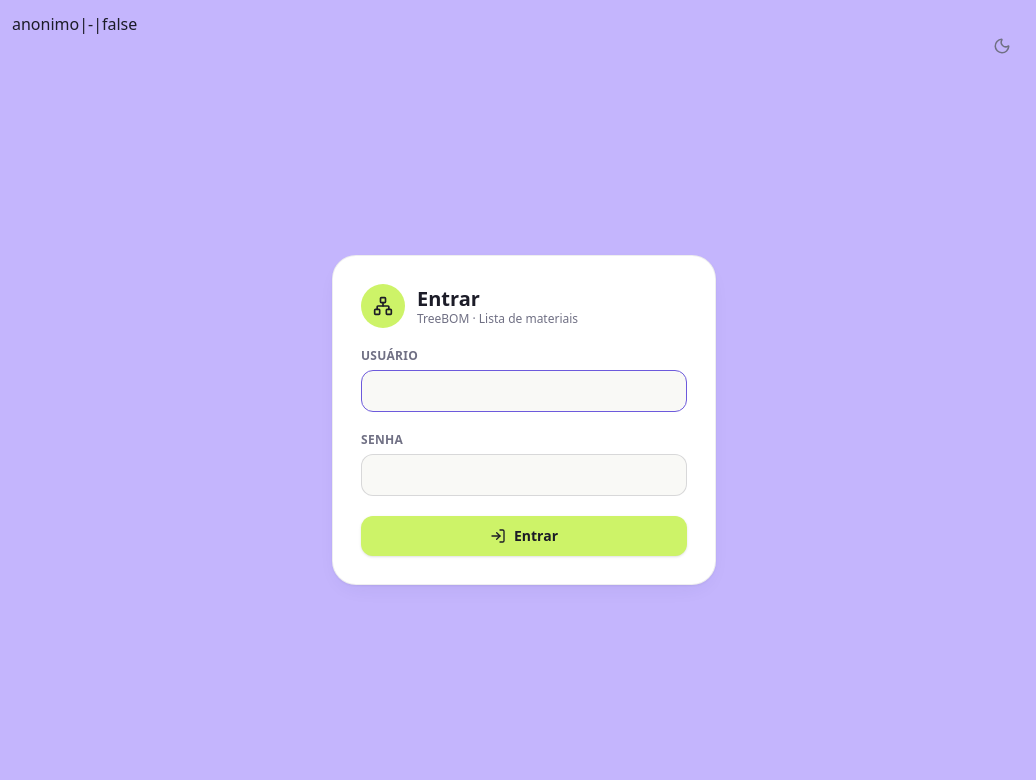
Scenario: login › senha errada mostra mensagem genérica e limpa o campo de senha
The image size is (1036, 780).
In the field labelled "Usuário": (524, 391) top-left (361, 370), bottom-right (687, 412), type "admin"
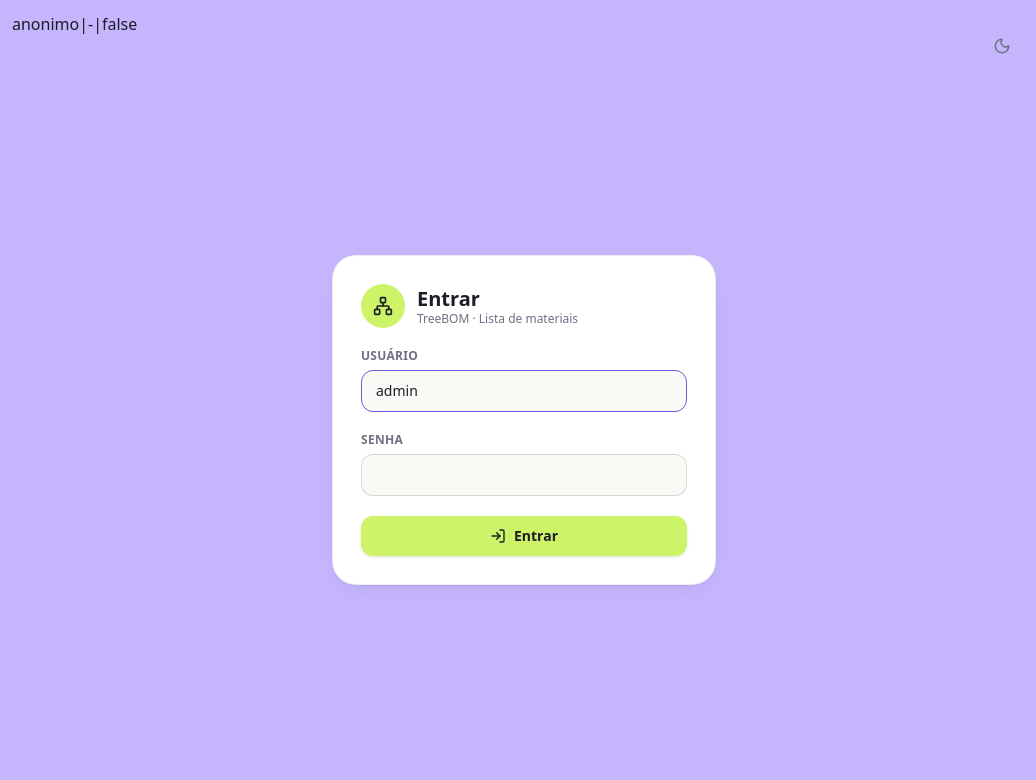
In the password field labelled "Senha": (524, 475) top-left (361, 454), bottom-right (687, 496), type "errada-errada"
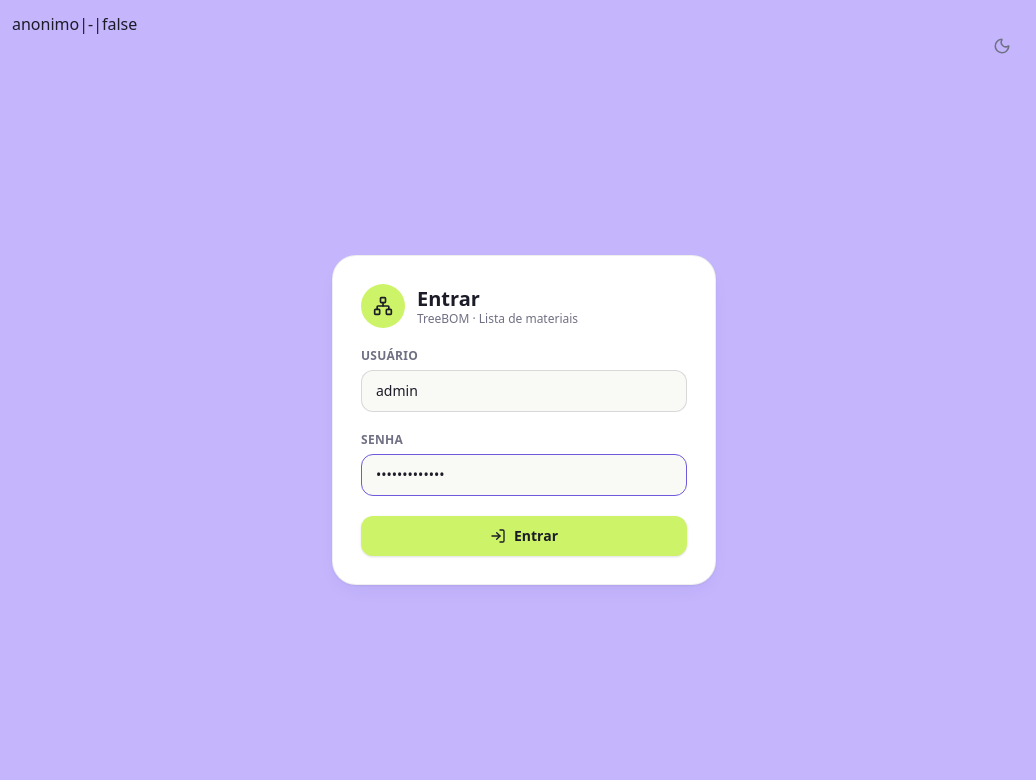
Click the button "Entrar": click(524, 536) top-left (361, 516), bottom-right (687, 556)
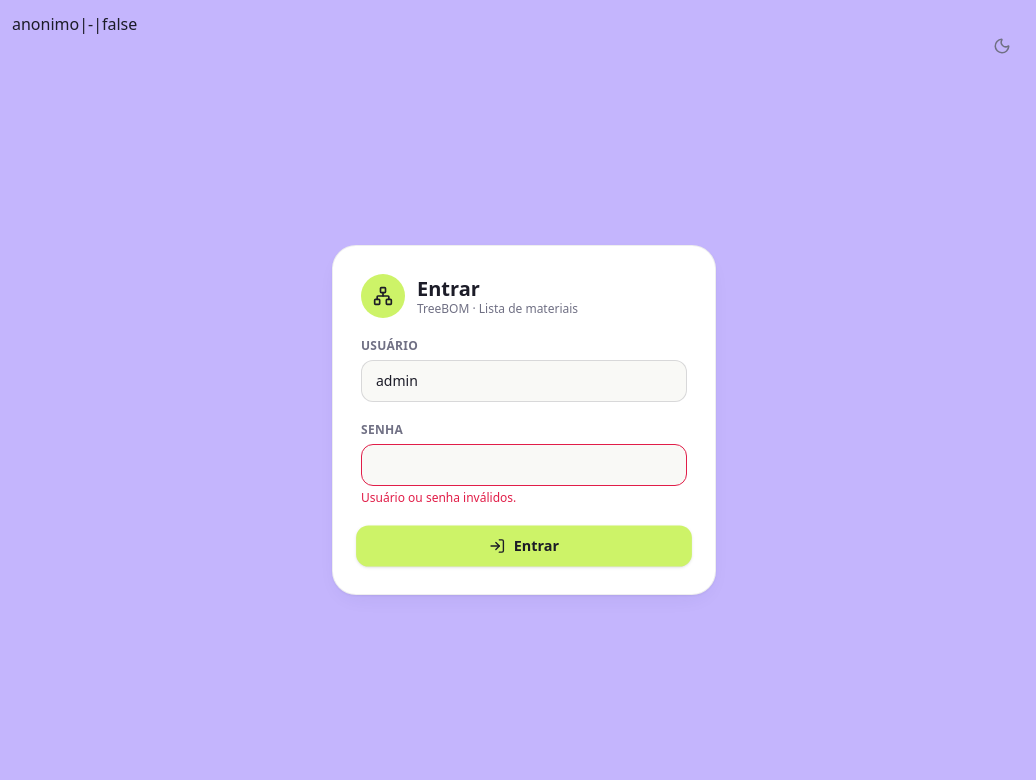
Expected: the text "Usuário ou senha inválidos." is shown, top-left (361, 489), bottom-right (516, 506)
Expected: the password field labelled "Senha" is empty, top-left (361, 444), bottom-right (687, 486)
